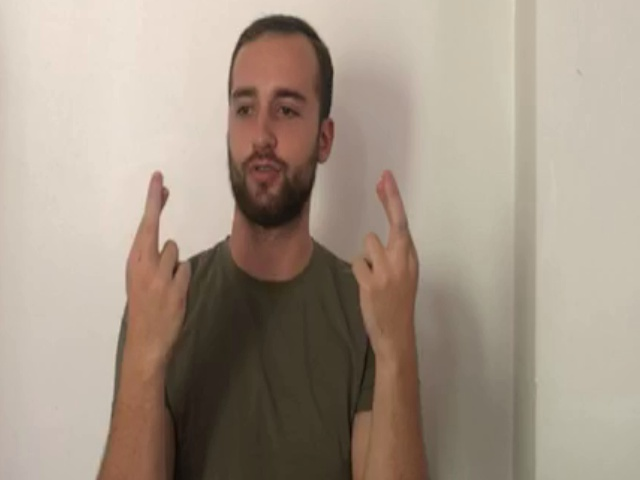Nadevanja: (112, 163, 427, 381)
